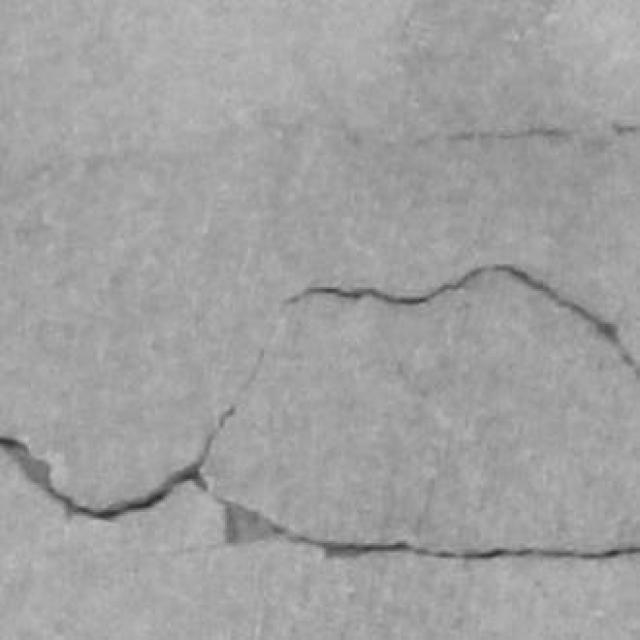crack: (0, 348, 265, 521), (286, 264, 639, 380), (216, 497, 639, 560), (0, 408, 234, 519), (417, 127, 585, 145), (447, 127, 575, 141)
